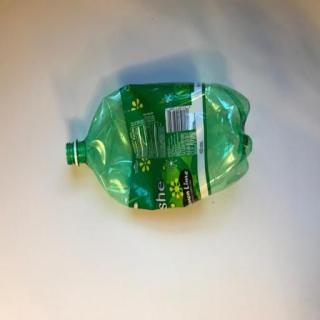Plastic-bottle: (65, 82, 255, 213)
